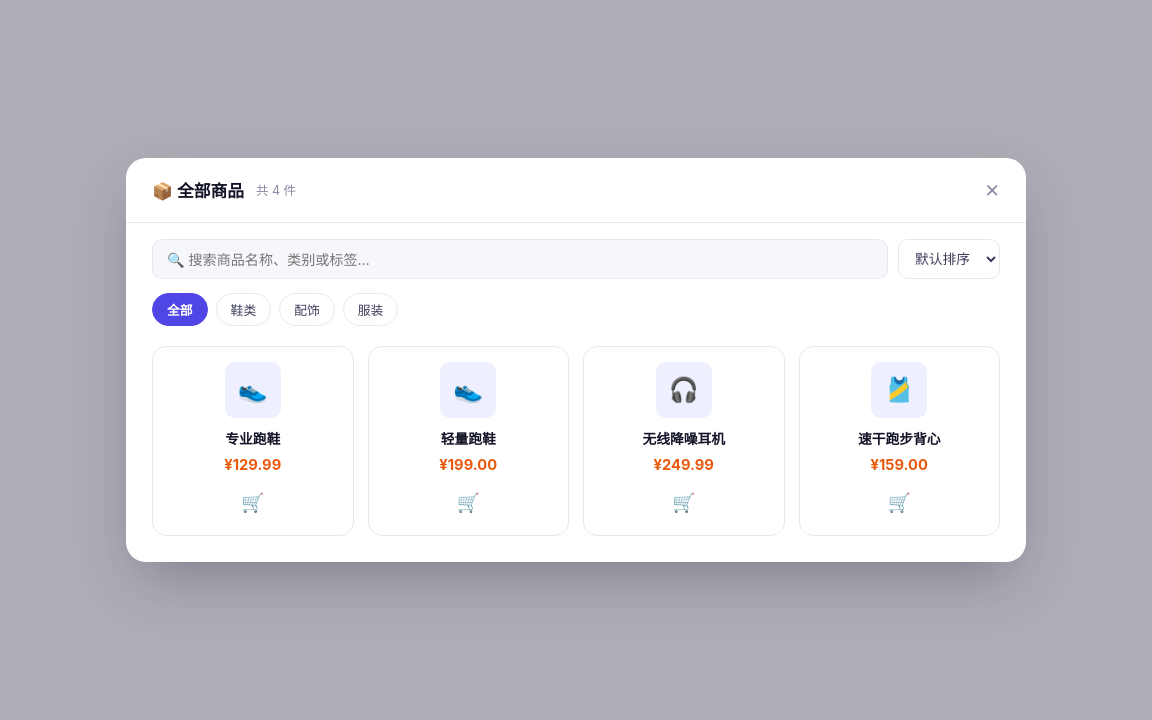
Test case: 商品详情（R11-9 / R11-4） › 点缩略图同样打开详情
expect the button "专业跑鞋" is shown: met, box x1=168 y1=428 x2=338 y2=448
Click the button "🎧" at (684, 390), box x1=656 y1=362 x2=712 y2=418
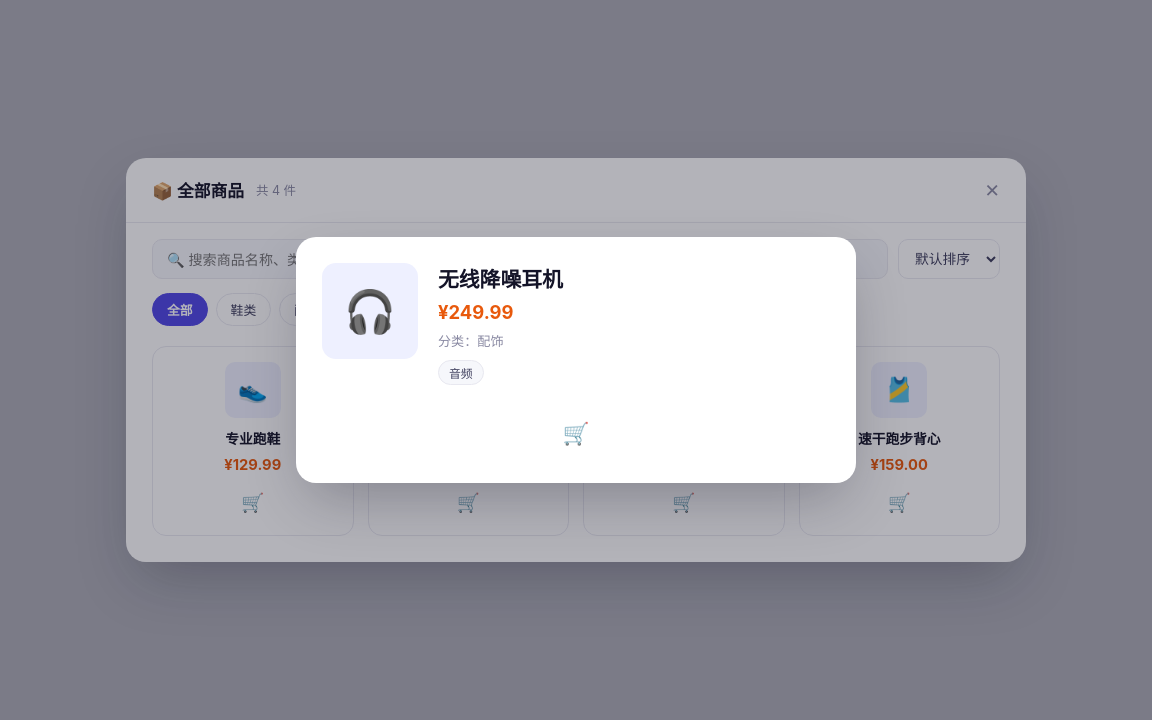
expect the heading "无线降噪耳机" is shown: met, box x1=438 y1=267 x2=563 y2=292
expect the text "¥249.99" is shown: met, box x1=438 y1=301 x2=513 y2=323
expect the text "分类：配饰" is shown: met, box x1=438 y1=333 x2=504 y2=349
